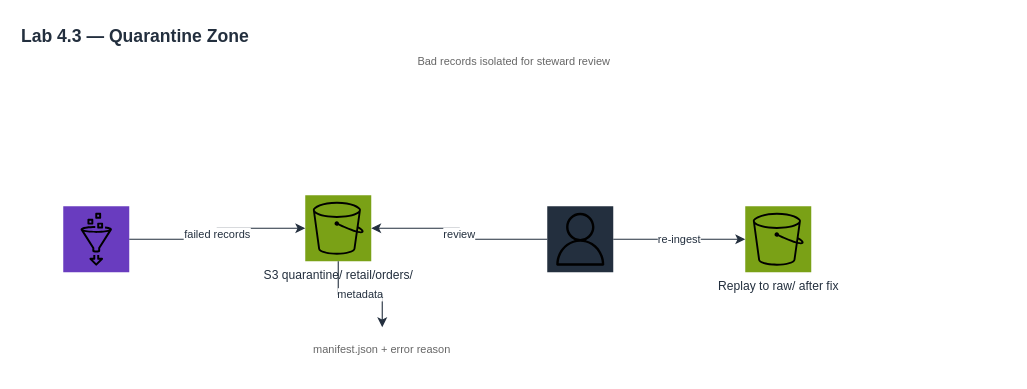
This 1027x389 diagram has some shape labels left out. Here are the shapes that lost their labels. From the top down, the centre of each, then its label:
At pixel 96 239: "ETL Pipeline".
At pixel 580 239: "Data Steward".
